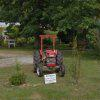Tractor: (24, 26, 69, 83)
